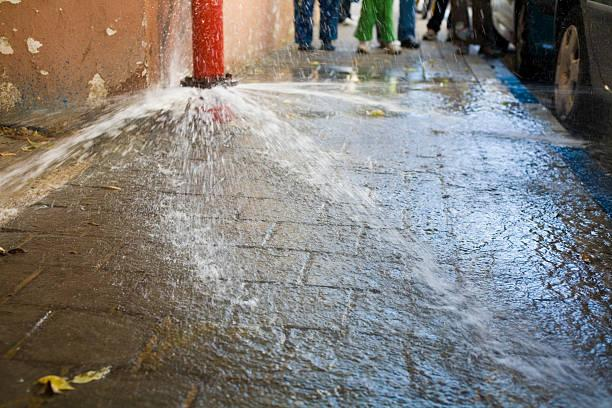pipe burst: (1, 77, 581, 355)
water accumulation: (0, 65, 612, 408)
